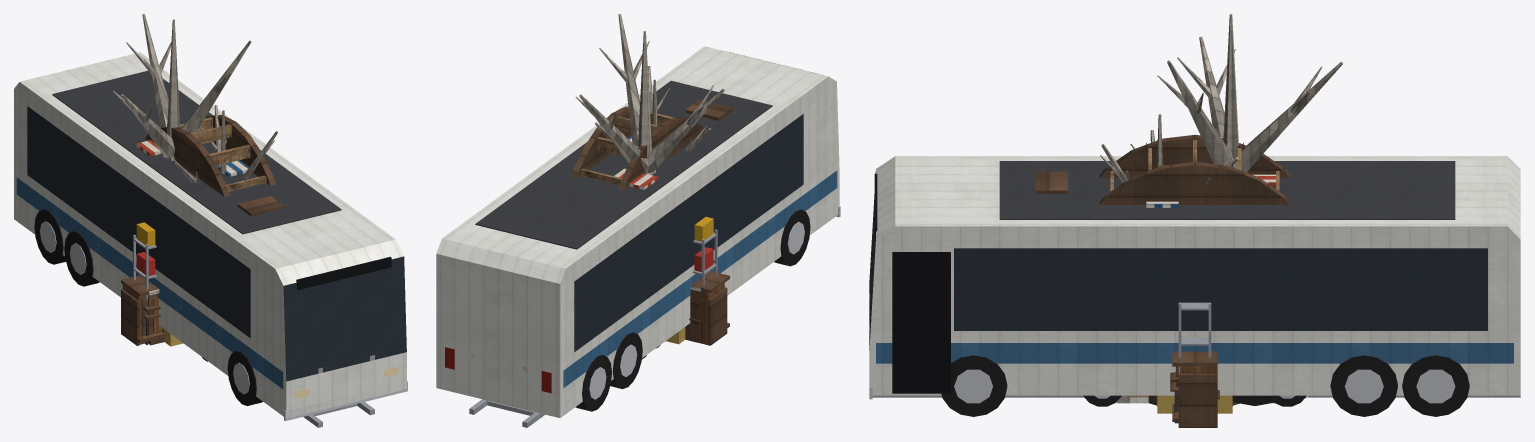
The model's file is low-water-props.glb.
3 renders of one model, left to right at view 1: azimuth 30°, elevation 25°; view 2: azimuth 150°, elevation 25°; view 3: azimuth 270°, elevation 25°, orthographic. The views are drawn at different scales.
Visible parts, largest first — view 1: bus_body, bus_glass, bus_roof, bus_trim, dead-oak_wood, waterwheel_rim, bus_wheels, waterwheel_paddles, bus_hubs, pew_wood, dead-tree_wood, shop-shelf_stuff (+4 smaller); view 2: bus_body, bus_glass, bus_roof, bus_trim, dead-oak_wood, bus_wheels, waterwheel_rim, bus_hubs, pew_wood, waterwheel_paddles, shop-shelf_stuff, dead-tree_wood (+5 smaller); view 3: bus_body, bus_glass, bus_roof, bus_trim, waterwheel_rim, bus_wheels, dead-oak_wood, bus_hubs, pew_wood, shop-shelf_frame, dead-tree_wood, pylon_steel (+2 smaller).
Part boxes in pixels (x1,y1,x2,y2): bus_body: (14,52,406,417); bus_glass: (27,106,250,337); bus_roof: (52,70,341,234); bus_trim: (16,177,407,420); dead-oak_wood: (112,14,251,160); waterwheel_rim: (145,115,275,196); bus_wheels: (34,209,262,405); waterwheel_paddles: (180,117,266,191); bus_hubs: (40,221,249,394); pew_wood: (121,289,164,345); dead-tree_wood: (173,105,277,183); shop-shelf_stuff: (136,222,155,275); bus_body: (436,46,839,417); bus_glass: (574,114,803,351); bus_roof: (475,80,772,249); bus_trim: (445,52,840,393); dead-oak_wood: (575,14,724,174); bus_wheels: (575,209,810,411); waterwheel_rim: (570,106,705,190); bus_hubs: (589,222,804,399); pew_wood: (690,287,729,345); waterwheel_paddles: (580,112,674,185); shop-shelf_stuff: (694,217,713,271); dead-tree_wood: (594,66,710,151); bus_body: (869,156,1520,395); bus_glass: (954,248,1487,330); bus_roof: (999,161,1455,219); bus_trim: (869,173,1513,399); waterwheel_rim: (1099,134,1290,204); bus_wheels: (941,355,1469,416); dead-oak_wood: (1157,14,1342,172); bus_hubs: (954,369,1455,403); pew_wood: (1172,373,1217,427); shop-shelf_frame: (1178,302,1211,373); dead-tree_wood: (1100,114,1238,183); pylon_steel: (869,294,1520,397).
Bounding box in the file's own units: 3.54 × 6.08 × 10.01.
Materials: 46 (46 with a texture image).
